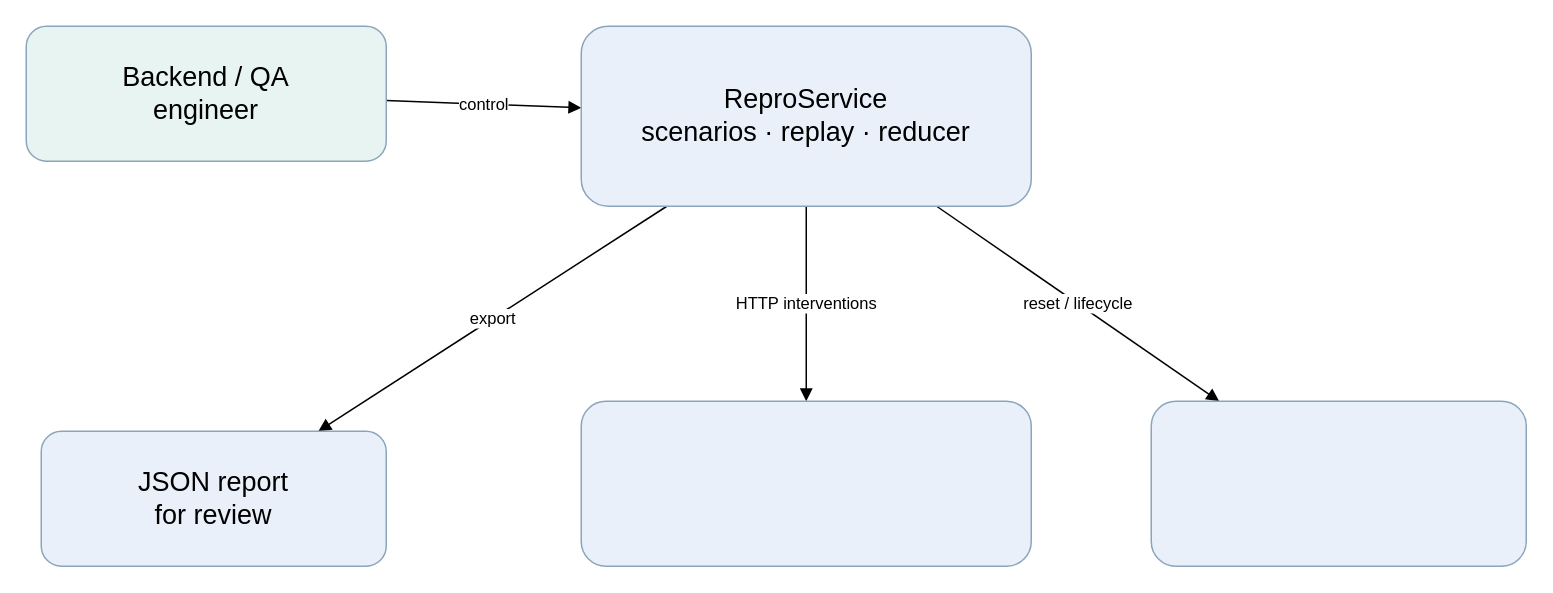
Some shapes in this 1553 by 593 pixel diagram are drawn without their labels. Here are the shapes that lost their labels. From the top down, the box of each, then its label:
(580, 400, 1031, 566): Test environment orders / payments / inventory
(1150, 400, 1526, 566): Docker Engine local environment
